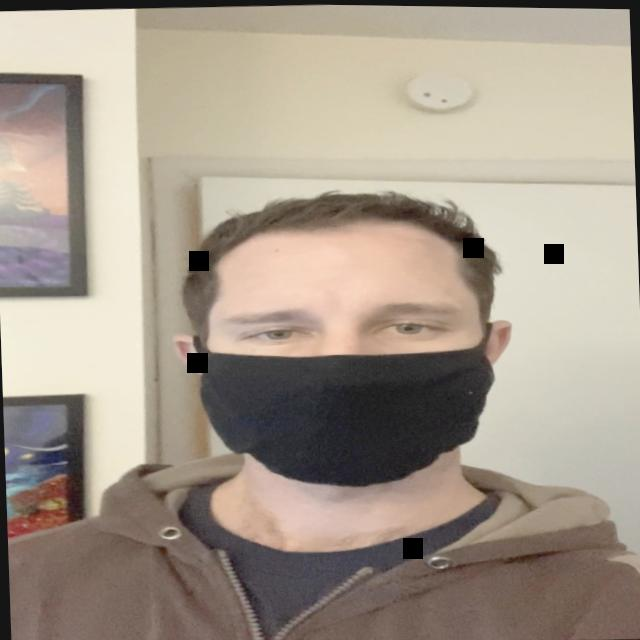Mask: (179, 185, 518, 494)
